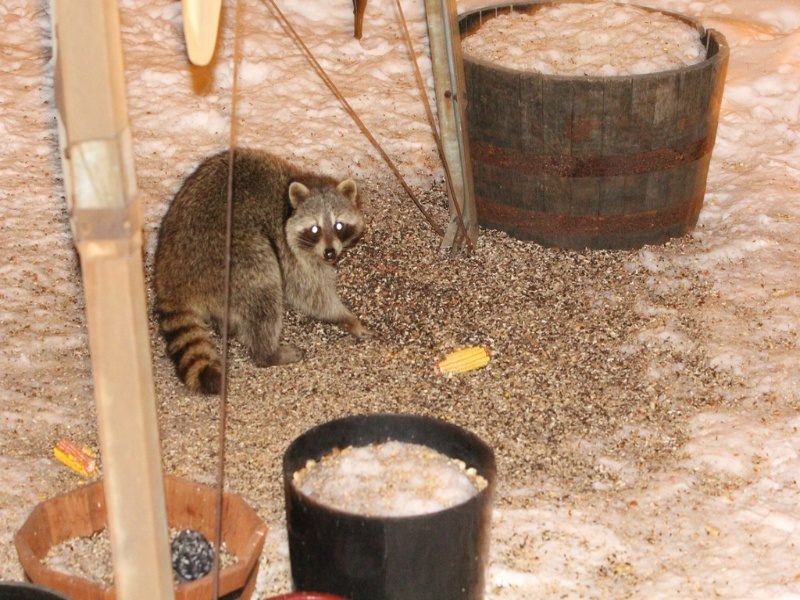raccoon: (142, 143, 388, 397)
